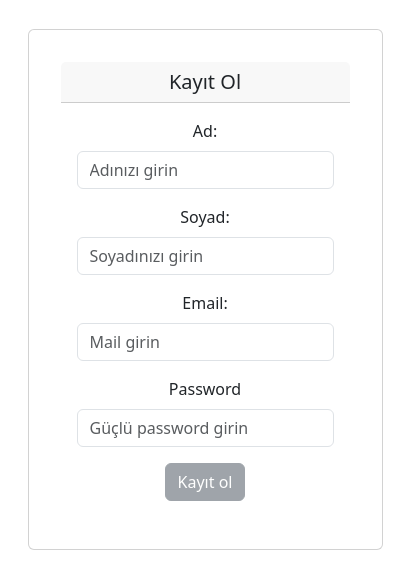
Scenario: Hata mesajları doğru görünüyor mu › email formu doğru format mı
In the field with test id "input-email": (206, 342) x1=77 y1=323 x2=334 y2=361, type "emre@wit."
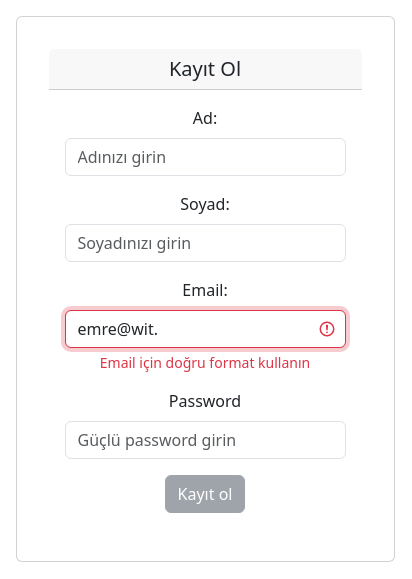
Check: the text "Email için doğru format kullanın" is shown, box x1=100 y1=353 x2=310 y2=372
